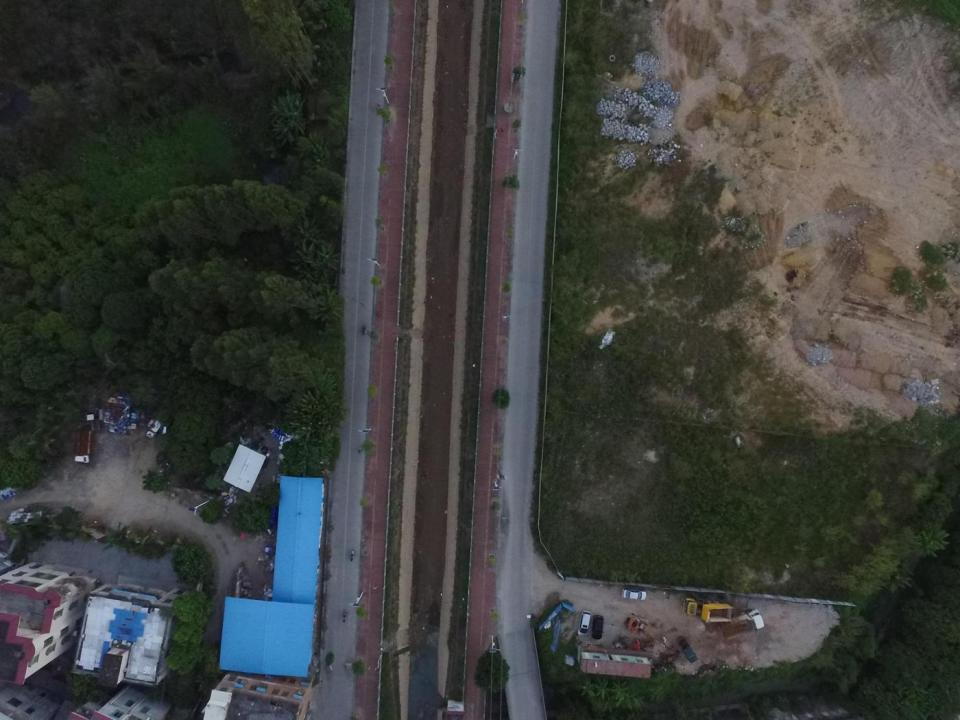car: (621, 587, 647, 601), (577, 610, 591, 636), (591, 614, 605, 640)
truck: (679, 597, 734, 623), (716, 608, 764, 637), (74, 428, 92, 464), (676, 635, 698, 664)
